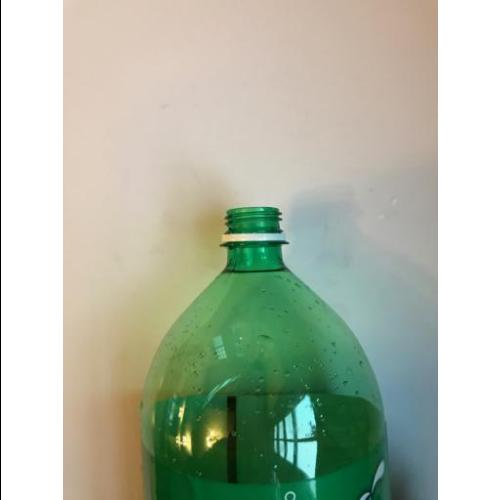plastic: (142, 208, 392, 499)
